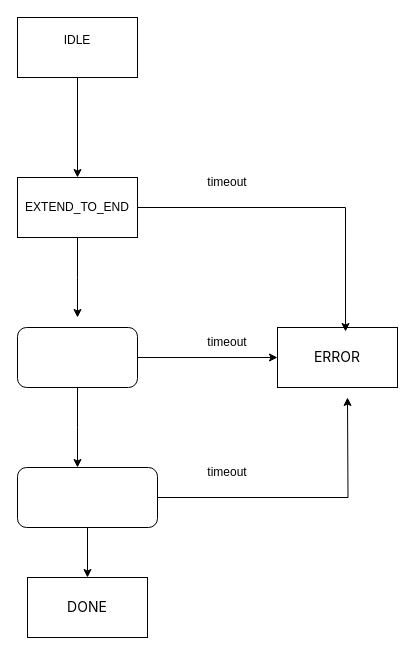
The diagram is 415 pixels wide and 655 high, and some of its shapes have lost their labels. The centre of each missing label's shape, as x and y in pixels:
EXTEND_TO_MIDDLE: the point at 87,497
SHRINKED_FULL: the point at 77,357
